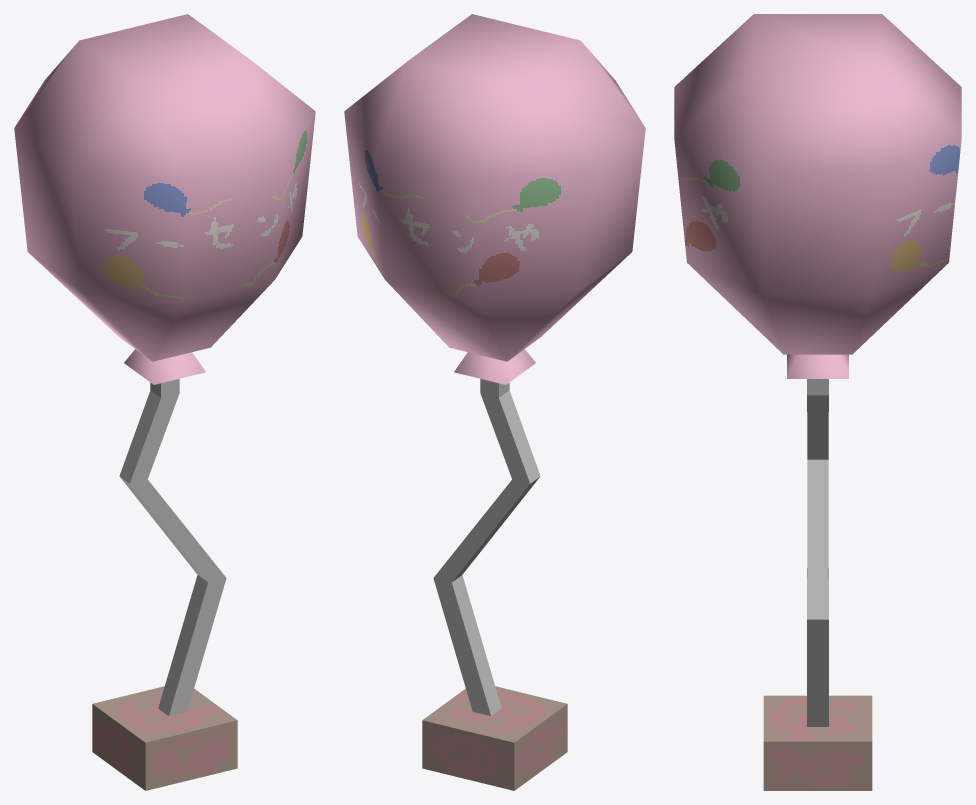
The model's file is 0461_Balloon_Shop_Sign.glb.
3 views of the same model, side by side, from view 1: azimuth 30°, elevation 25°; view 2: azimuth 150°, elevation 25°; view 3: azimuth 270°, elevation 25° (orthographic). The views are drawn at different scales.
Parts seen in each view (by area): view 1: part_0; view 2: part_0; view 3: part_0.
Part boxes in pixels (x1,y1,x2,y2): part_0: (14, 14, 315, 790); part_0: (344, 14, 645, 790); part_0: (674, 14, 961, 790).
Size of the model in its own units: 0.7925 by 2.21 by 0.7925.
Materials: 1 (1 with a texture image).
